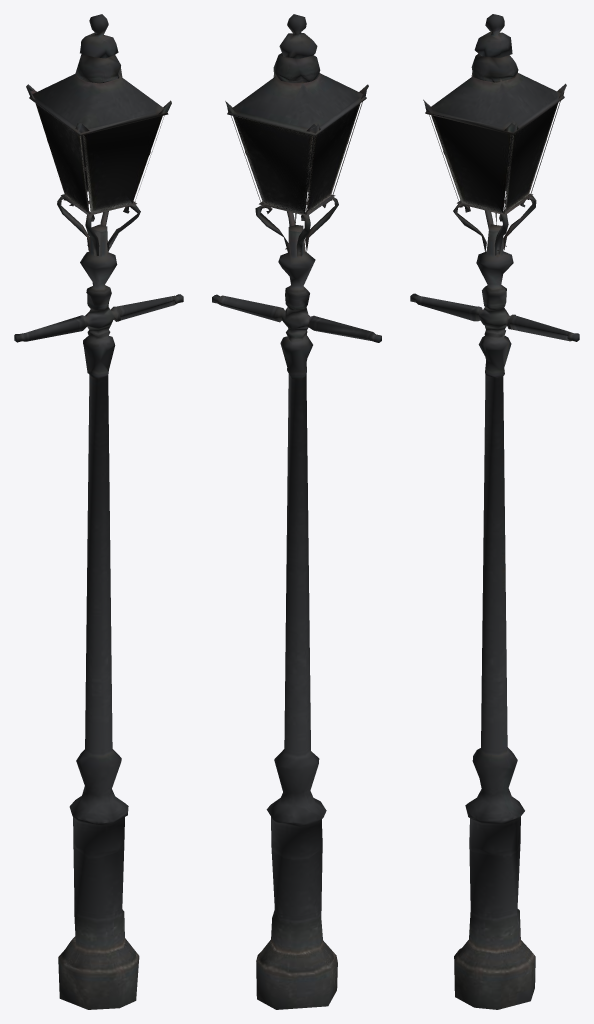
File: street_lamp_01.glb
3 views of the same model, side by side, from view 1: azimuth 30°, elevation 25°; view 2: azimuth 150°, elevation 25°; view 3: azimuth 330°, elevation 25° (orthographic).
Parts seen in each view (by area): view 1: street_lamp_01; view 2: street_lamp_01; view 3: street_lamp_01.
Boxes of the visible parts, bbox=[...] form: street_lamp_01: bbox=[14, 14, 183, 1009]; street_lamp_01: bbox=[212, 14, 381, 1009]; street_lamp_01: bbox=[410, 14, 579, 1009].
Size of the model in its own units: 0.6892 by 3.87 by 0.3862.
Materials: 3 (3 with a texture image).
